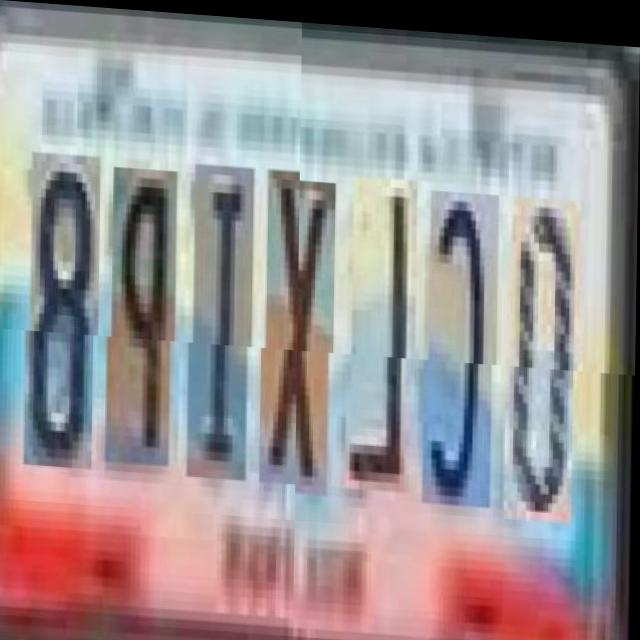0: (505, 188, 577, 513)
8: (25, 160, 97, 478)
c: (423, 183, 495, 501)
i: (188, 170, 251, 486)
l: (346, 170, 414, 487)
p: (106, 174, 173, 473)
x: (260, 174, 332, 491)
